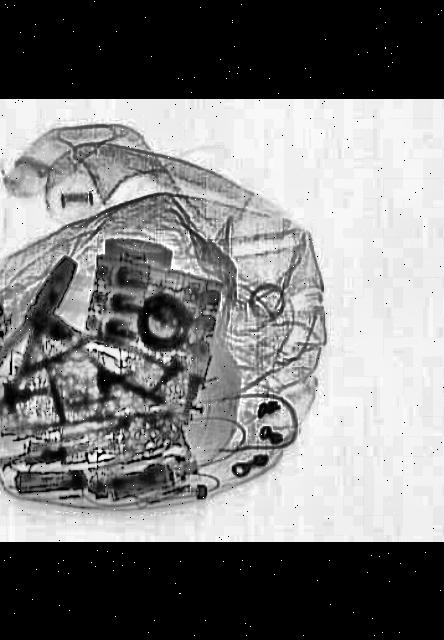Pliers: (0, 250, 96, 446), (31, 302, 193, 406)
